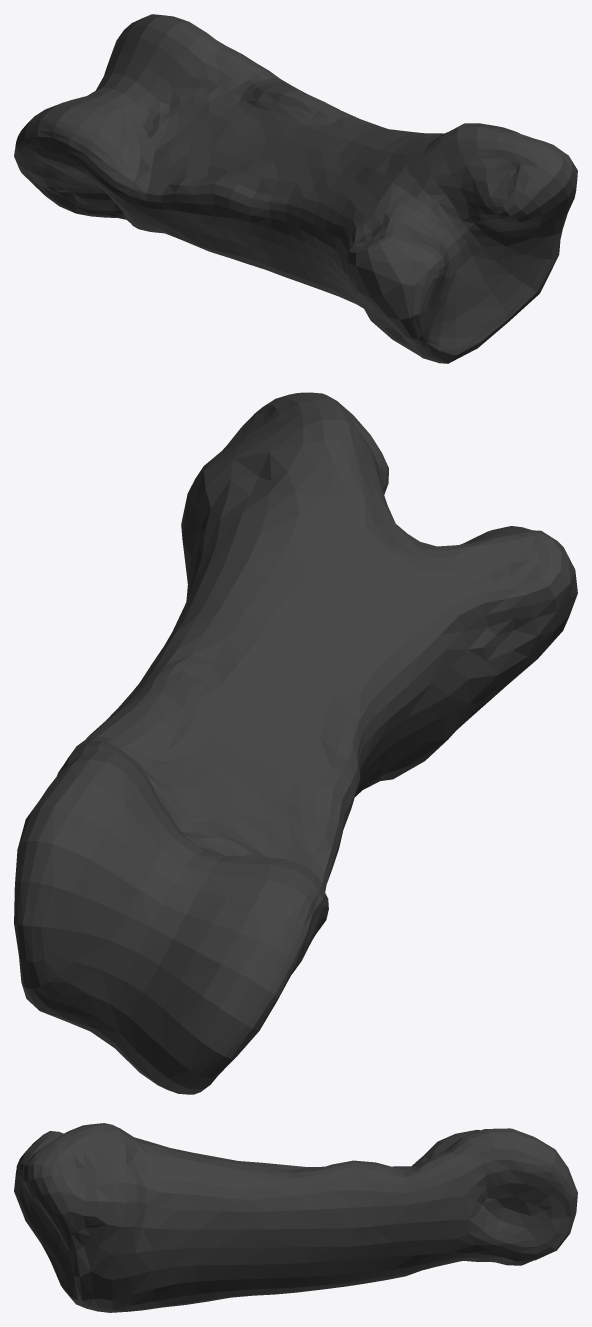
The model's file is Proximal_phalange_4.glb.
3 views of the same model, one above another, from view 1: azimuth 30°, elevation 25°; view 2: azimuth 150°, elevation 25°; view 3: azimuth 270°, elevation 25° (orthographic). The views are drawn at different scales.
Parts seen in each view (by area): view 1: Proximal_phalange_4; view 2: Proximal_phalange_4; view 3: Proximal_phalange_4.
Boxes of the visible parts, bbox=[...] form: Proximal_phalange_4: bbox=[14, 14, 577, 363]; Proximal_phalange_4: bbox=[14, 392, 577, 1094]; Proximal_phalange_4: bbox=[14, 1123, 577, 1312].
Size of the model in its own units: 0.2176 by 0.1585 by 0.4071.
1 material, 1 textured.
